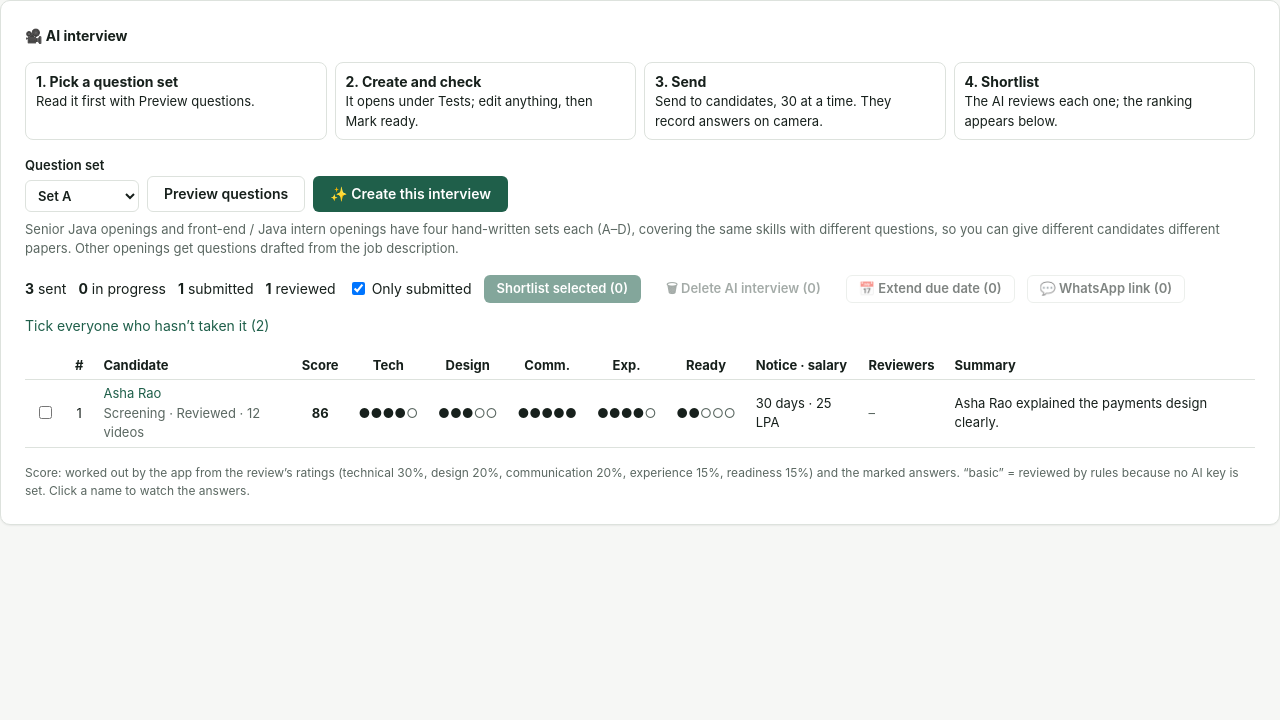
Test: AiInterviewPanel (AINT-07) › gives everyone who hasn’t taken it 15 more days and emails them (ASMT-42)
Click the button "Tick everyone who hasn’t taken it (2)": x=147, y=325 [25, 314, 269, 336]
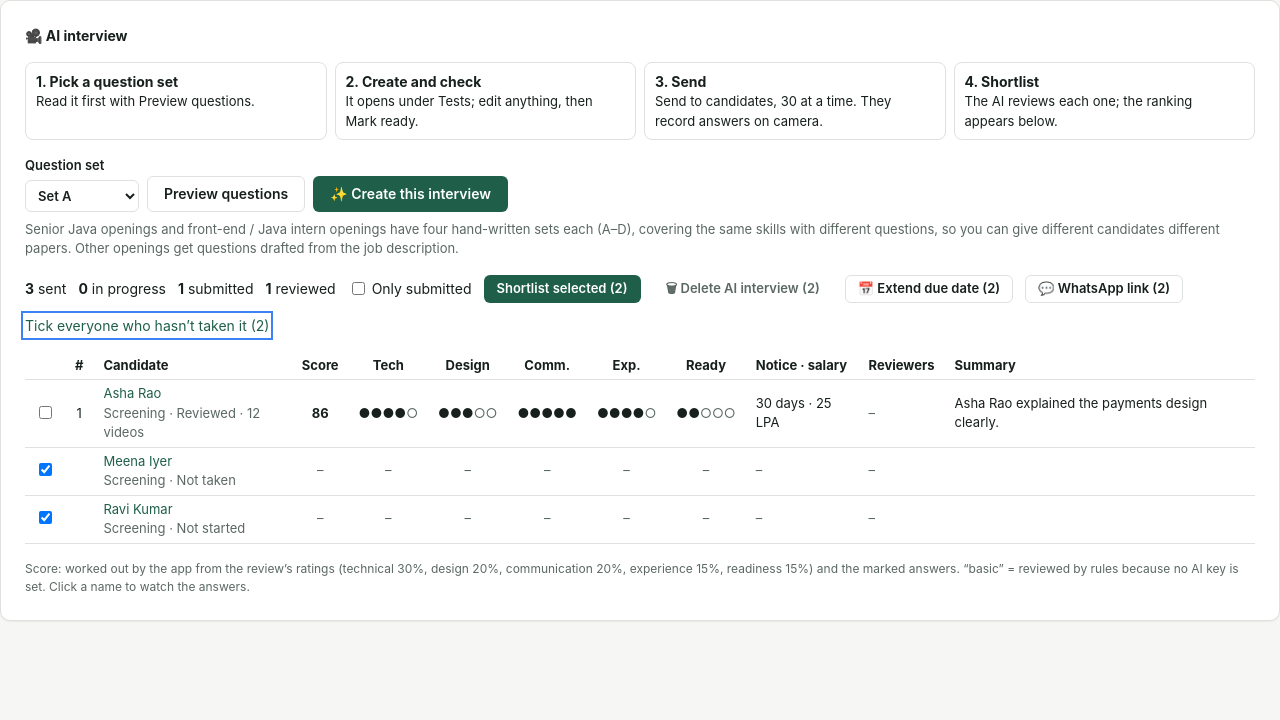
Click the button "📅 Extend due date (2)": x=929, y=288 [845, 274, 1013, 302]
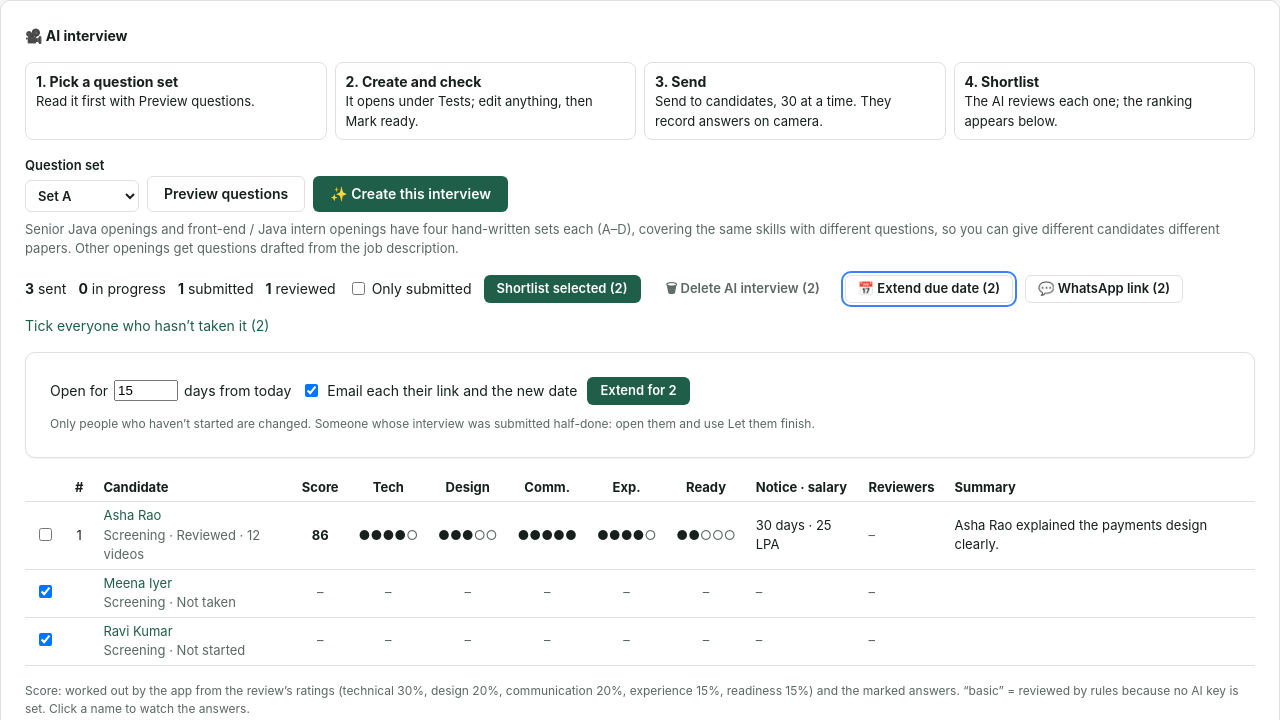
Now the number field labelled "days" holds "15", box [114, 380, 178, 401]
Click the button "Extend for 2": x=638, y=390 [587, 376, 690, 404]
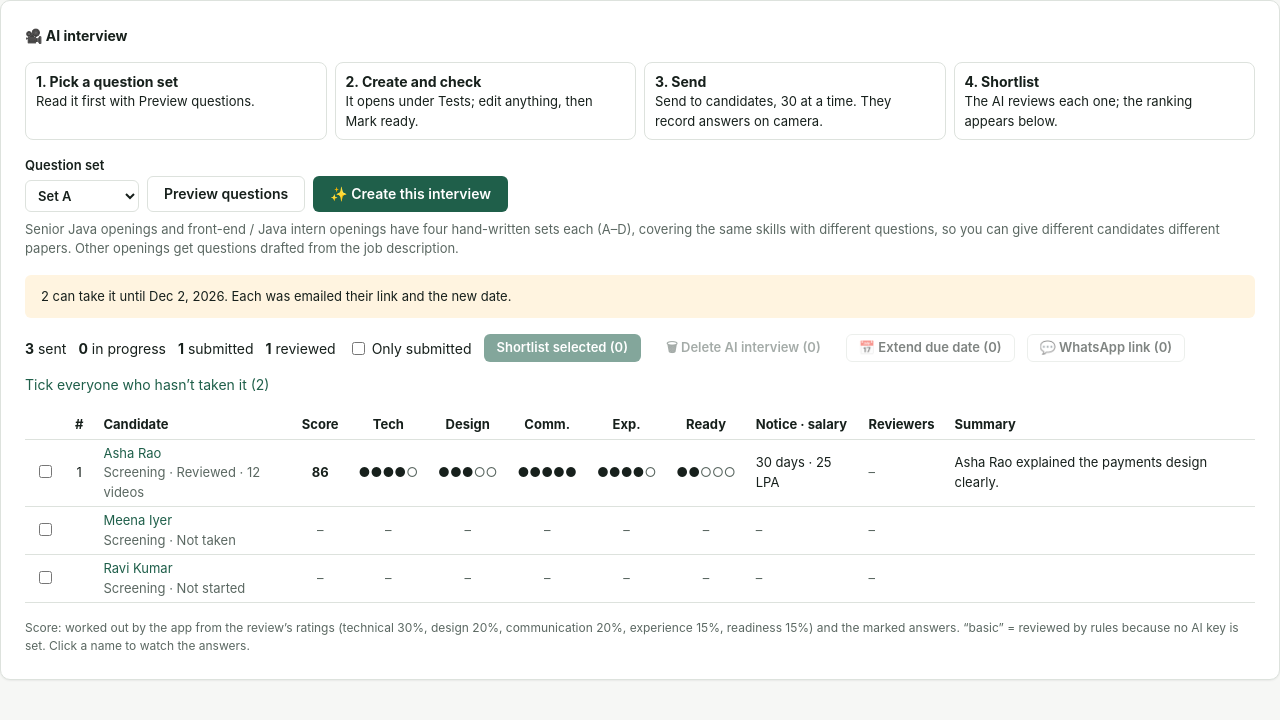
Now the text "2 can take it until Dec 2, 2026. Each was emailed their link and the new date." is shown, box [25, 274, 1255, 318]
